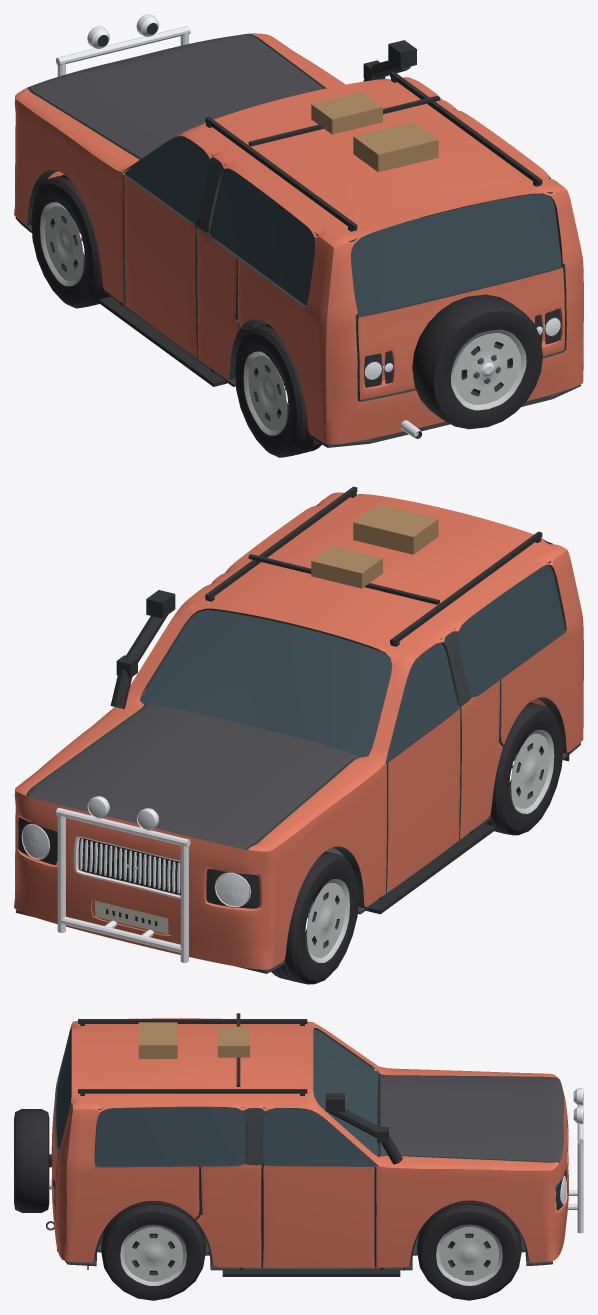
The model's file is forge_closed_4x4_lod1.fbx.
The picture shows the model from 3 angles, top to bottom: view 1: azimuth 30°, elevation 25°; view 2: azimuth 150°, elevation 25°; view 3: azimuth 270°, elevation 25°; orthographic projection. The views are drawn at different scales.
Visible parts, largest first — view 1: Body, Wheel_RL_Mesh, Wheel_FL_Mesh; view 2: Body, Wheel_FL_Mesh, Wheel_RL_Mesh; view 3: Body, Wheel_FR_Mesh, Wheel_RR_Mesh.
Part boxes in pixels (x1,y1,x2,y2): Body: [14, 14, 583, 447]; Wheel_RL_Mesh: [235, 324, 321, 457]; Wheel_FL_Mesh: [31, 174, 109, 308]; Body: [14, 486, 583, 973]; Wheel_FL_Mesh: [271, 851, 358, 984]; Wheel_RL_Mesh: [484, 702, 563, 835]; Body: [14, 1013, 583, 1276]; Wheel_FR_Mesh: [417, 1200, 521, 1300]; Wheel_RR_Mesh: [101, 1201, 205, 1300].
Bounding box in the file's own units: 173 × 166 × 392.
